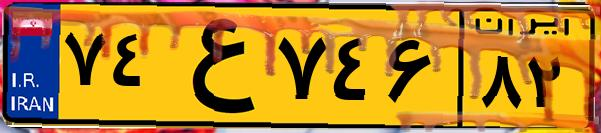2: (525, 38, 570, 115)
4: (330, 28, 385, 110), (110, 28, 158, 98)
6: (385, 28, 445, 110)
7: (270, 28, 330, 110), (57, 26, 110, 100)
8: (475, 38, 525, 113)
ع: (158, 12, 270, 120)
